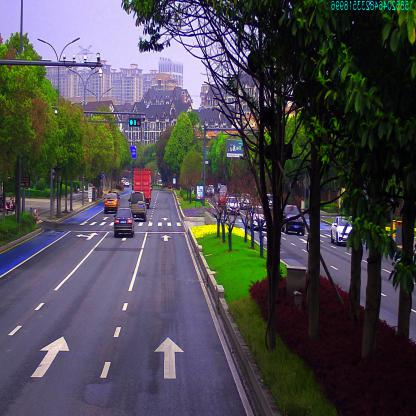traffic-light: (128, 119, 140, 127)
